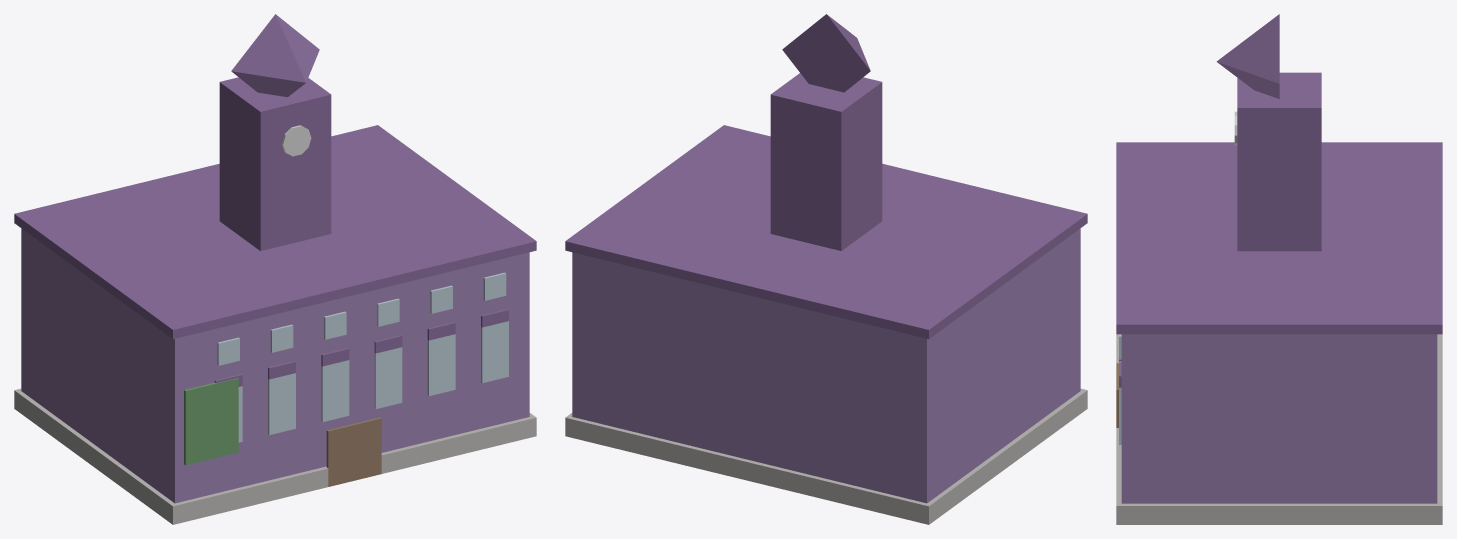
Rendered from building-university.glb.
3 renders of one model, left to right at view 1: azimuth 30°, elevation 25°; view 2: azimuth 150°, elevation 25°; view 3: azimuth 270°, elevation 25°, orthographic. The views are drawn at different scales.
Parts seen in each view (by area): view 1: building-university_part_0, building-university_part_4, building-university_part_2, building-university_part_1, building-university_part_3, building-university_part_25, building-university_part_23, building-university_part_11, building-university_part_13, building-university_part_9, building-university_part_7, building-university_part_15 (+1 smaller); view 2: building-university_part_0, building-university_part_4, building-university_part_2, building-university_part_1, building-university_part_3; view 3: building-university_part_4, building-university_part_0, building-university_part_2, building-university_part_1, building-university_part_3.
Part boxes in pixels (left/top/right/bottom): building-university_part_0: left=21, top=228, right=529, bottom=503; building-university_part_4: left=14, top=125, right=536, bottom=339; building-university_part_2: left=219, top=77, right=331, bottom=250; building-university_part_1: left=14, top=388, right=536, bottom=524; building-university_part_3: left=231, top=14, right=319, bottom=97; building-university_part_25: left=184, top=378, right=238, bottom=465; building-university_part_23: left=326, top=417, right=381, bottom=486; building-university_part_11: left=374, top=347, right=402, bottom=408; building-university_part_13: left=427, top=334, right=455, bottom=396; building-university_part_9: left=321, top=360, right=349, bottom=422; building-university_part_7: left=268, top=373, right=295, bottom=434; building-university_part_15: left=481, top=321, right=508, bottom=383; building-university_part_0: left=572, top=228, right=1080, bottom=503; building-university_part_4: left=565, top=125, right=1087, bottom=339; building-university_part_2: left=770, top=73, right=882, bottom=250; building-university_part_1: left=565, top=388, right=1087, bottom=524; building-university_part_3: left=782, top=14, right=870, bottom=92; building-university_part_4: left=1116, top=142, right=1442, bottom=334; building-university_part_0: left=1121, top=334, right=1437, bottom=503; building-university_part_2: left=1237, top=72, right=1321, bottom=251; building-university_part_1: left=1116, top=334, right=1442, bottom=524; building-university_part_3: left=1216, top=14, right=1279, bottom=98.
Bounding box in the file's own units: 20.5 × 22 × 15.51.
